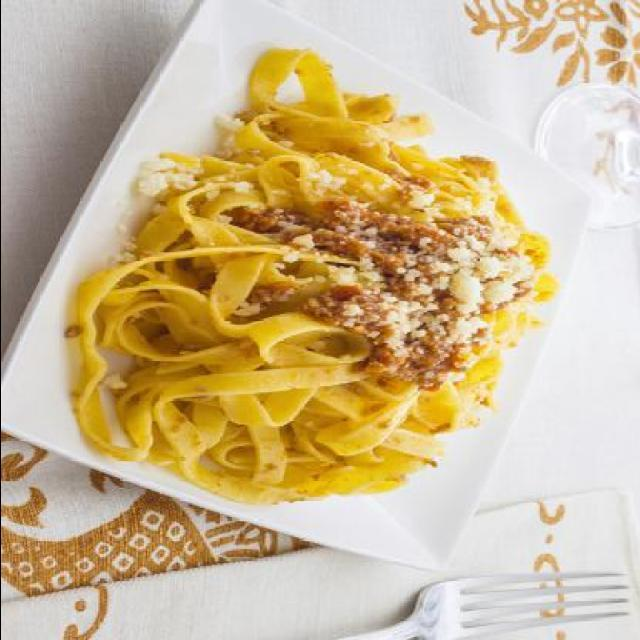Pasta al ragu: (72, 78, 603, 518)
